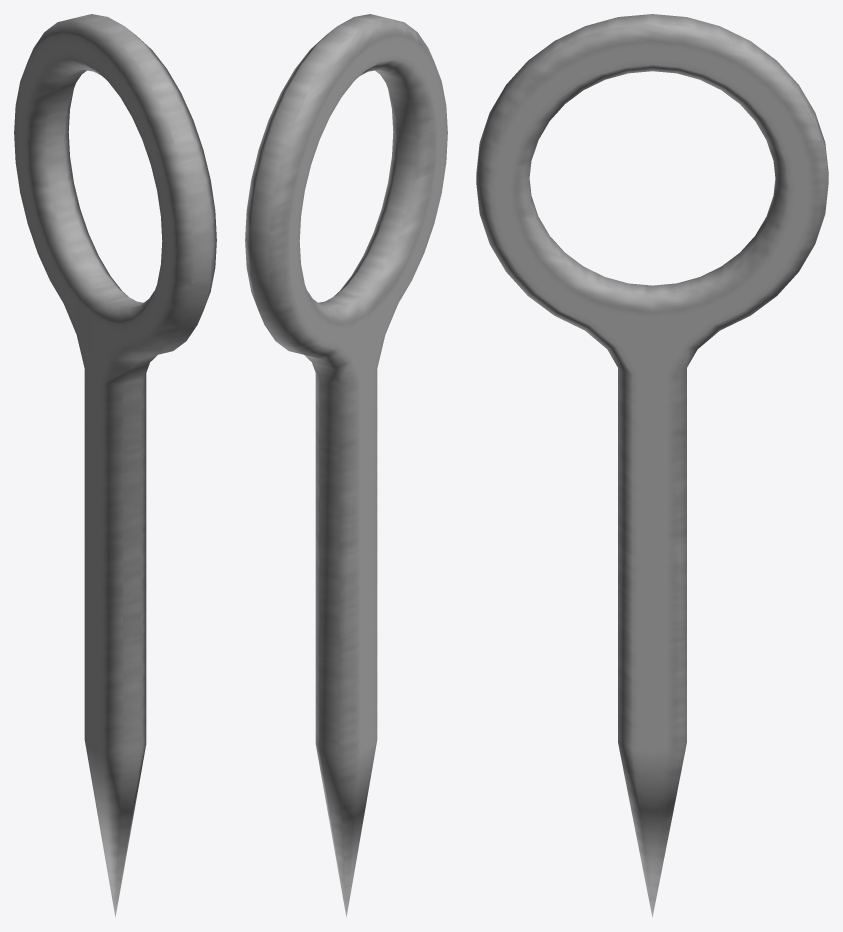
Rendered from Ring.fbx.
The picture shows the model from 3 angles, left to right: view 1: azimuth 30°, elevation 25°; view 2: azimuth 150°, elevation 25°; view 3: azimuth 270°, elevation 25°; orthographic projection.
Parts seen in each view (by area): view 1: Ring; view 2: Ring; view 3: Ring.
Boxes of the visible parts, <box> form: Ring: <box>14,14,216,917</box>; Ring: <box>245,14,447,917</box>; Ring: <box>476,14,828,917</box>.
Bounding box in the file's own units: 1.29 × 26.21 × 9.31.
